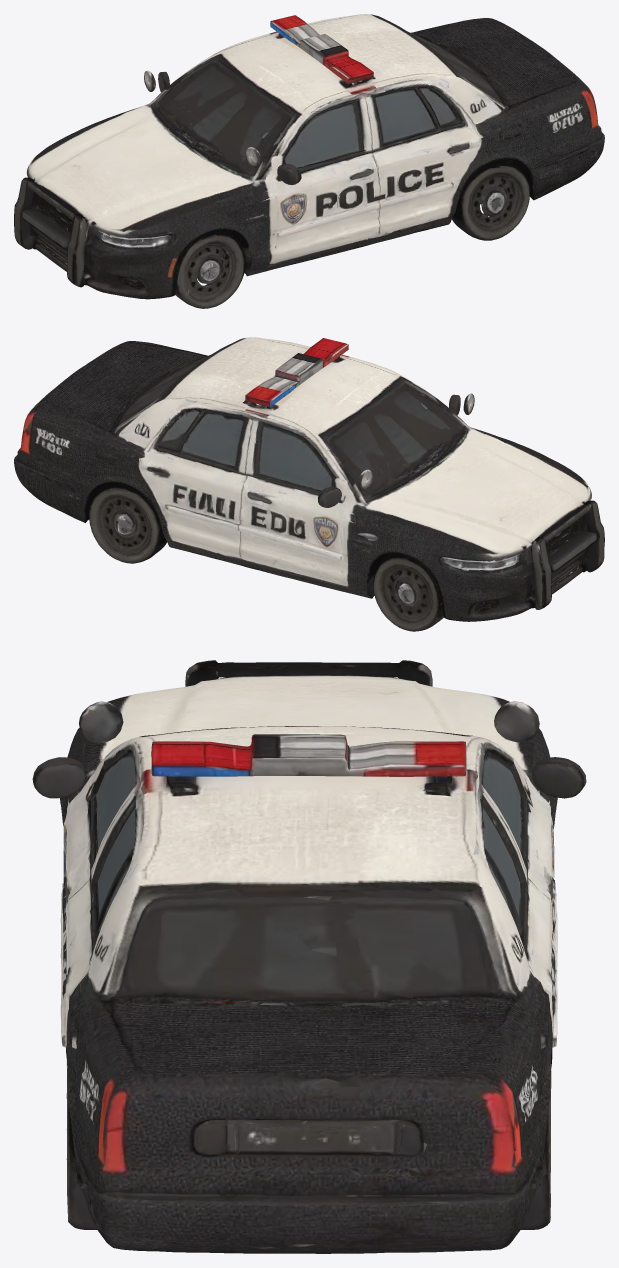
The model's file is car_police.glb.
The picture shows the model from 3 angles, top to bottom: view 1: azimuth 30°, elevation 25°; view 2: azimuth 150°, elevation 25°; view 3: azimuth 270°, elevation 25°; orthographic projection. The views are drawn at different scales.
Visible parts, largest first — view 1: world; view 2: world; view 3: world.
Boxes of the visible parts, <box> form: world: <box>14,14,604,308</box>; world: <box>14,337,604,631</box>; world: <box>32,660,586,1253</box>.
Size of the model in its own units: 4.44 by 1.5 by 2.06.
1 material, 1 textured.
